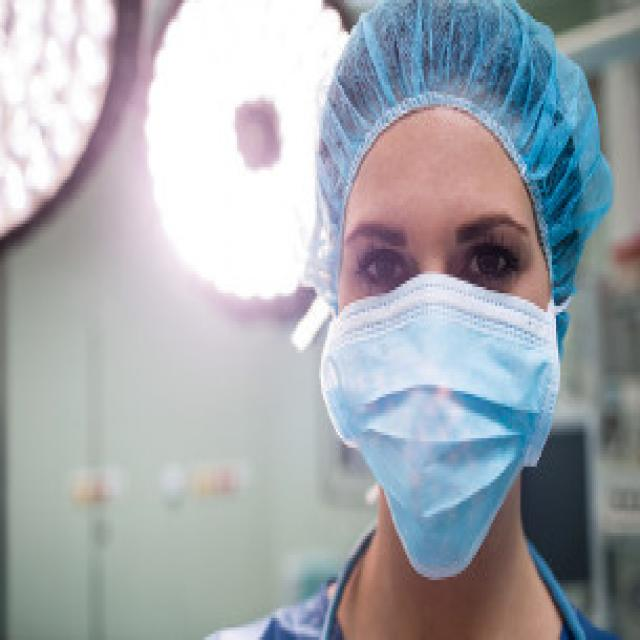mask: (318, 118, 559, 569)
